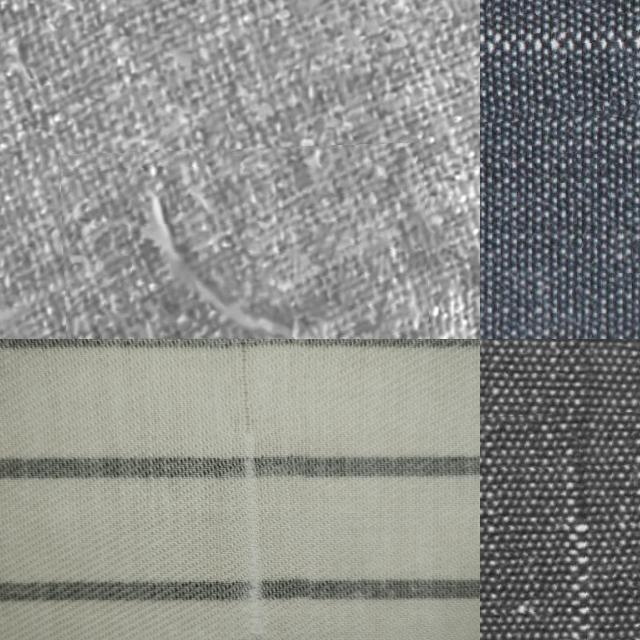Thread_other: (62, 145, 430, 339), (480, 410, 640, 640), (211, 339, 308, 640), (480, 0, 640, 122)
